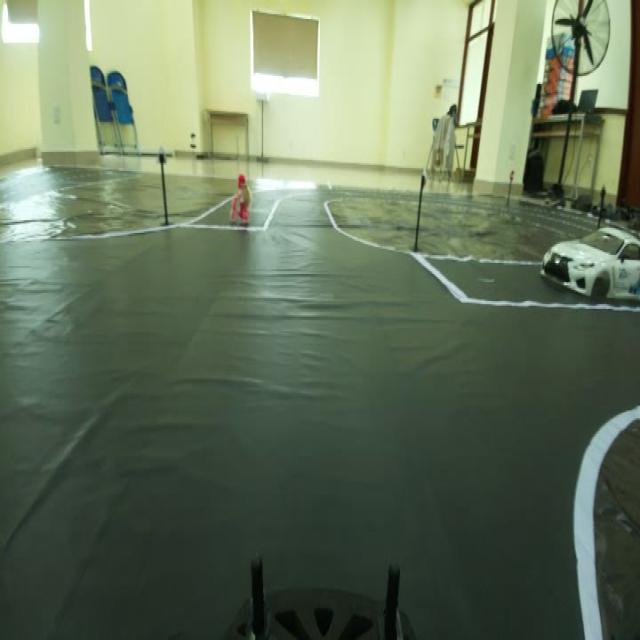car: (545, 210, 638, 316)
